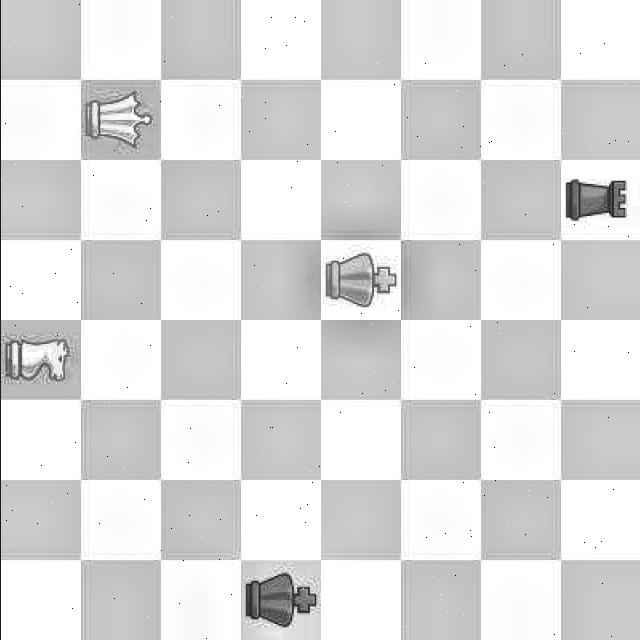black king: (243, 561, 322, 640)
black rook: (560, 160, 636, 242)
white king: (322, 243, 397, 319)
white queen: (82, 75, 158, 165)
whiteknight: (0, 320, 80, 400)
